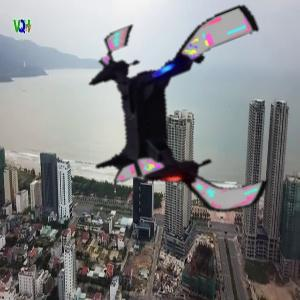drone: (74, 7, 299, 232)
